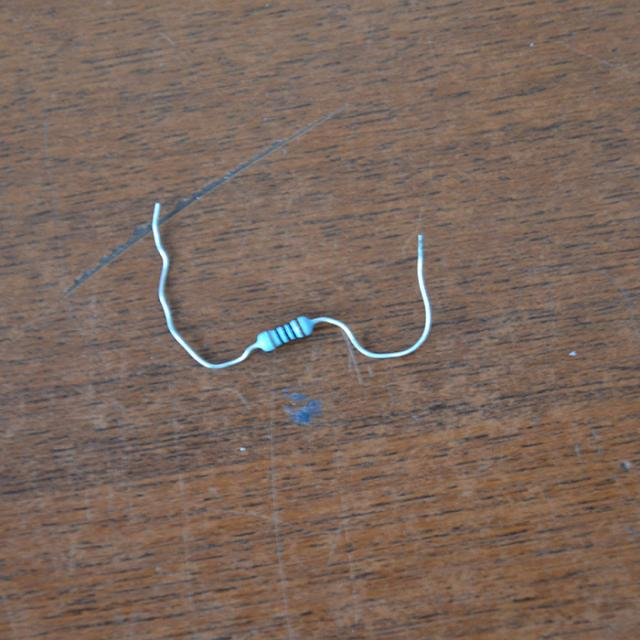Resistor Carbon-Film: (254, 315, 317, 355)
